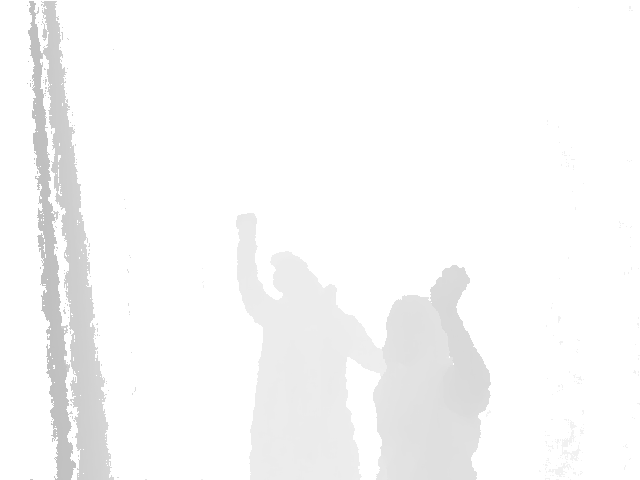hand: (431, 266, 469, 311), (236, 212, 256, 239)
head: (382, 295, 454, 367), (269, 251, 324, 296)
person: (235, 212, 380, 480), (371, 266, 492, 480)
